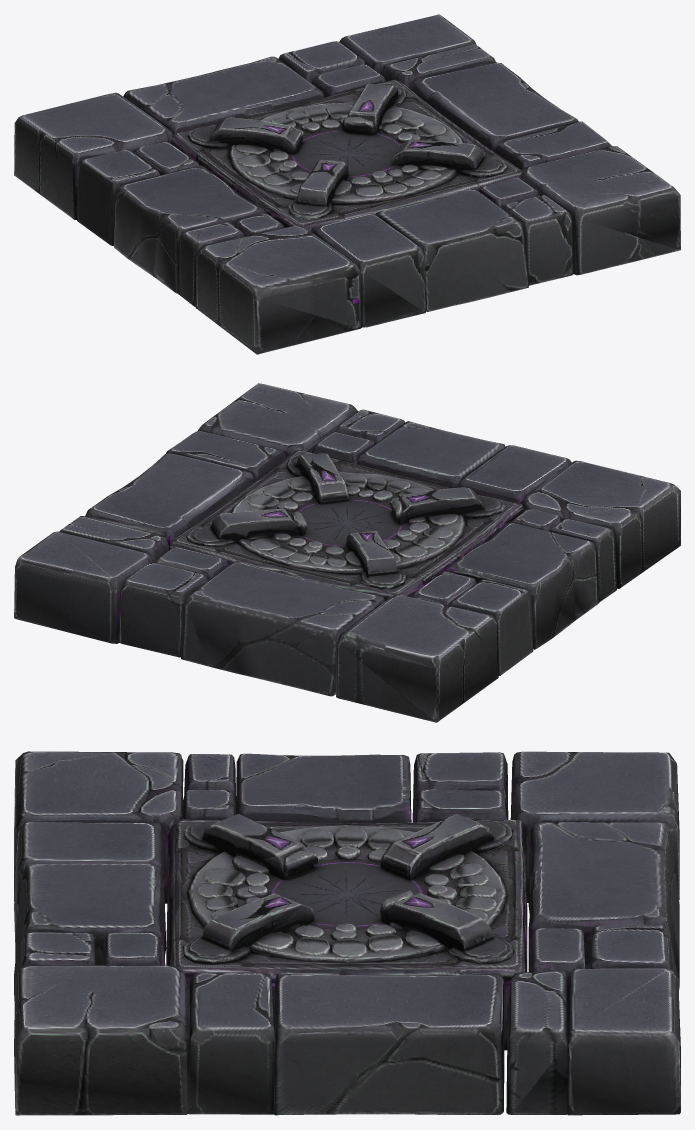
File: snare_broken.glb
3 renders of one model, top to bottom at view 1: azimuth 30°, elevation 25°; view 2: azimuth 150°, elevation 25°; view 3: azimuth 270°, elevation 25°, orthographic. The views are drawn at different scales.
Bounding box in the file's own units: 1 × 0.1758 × 1.
Materials: 1 (1 with a texture image).
